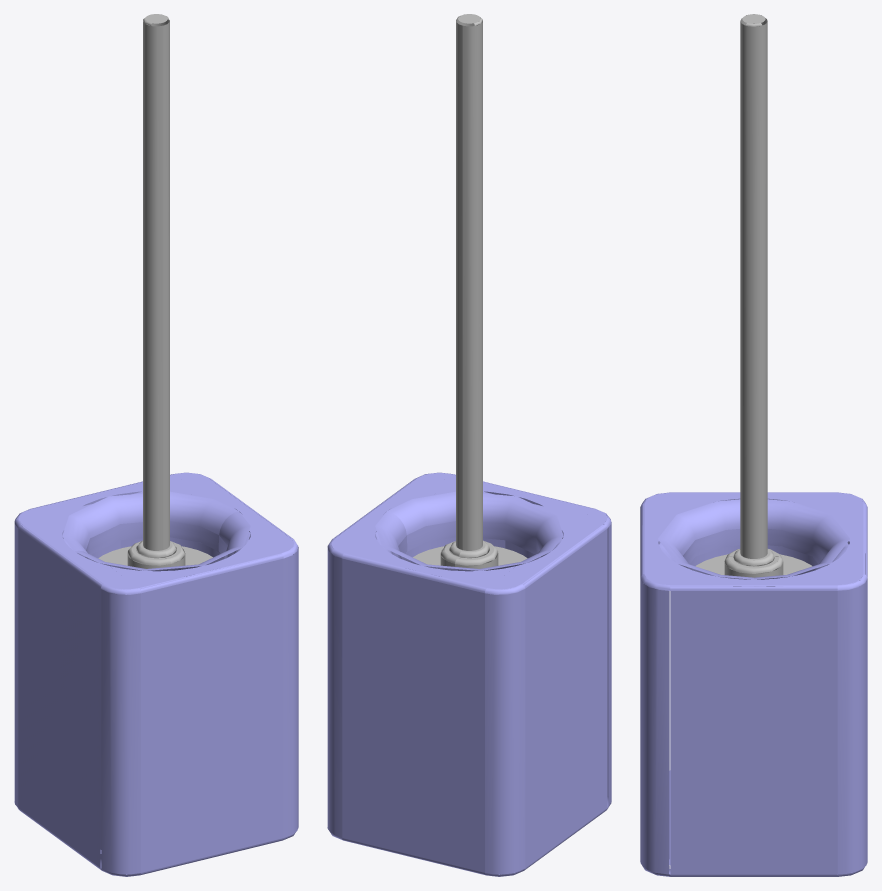
File: Toilet_brush_1.fbx
3 views of the same model, side by side, from view 1: azimuth 30°, elevation 25°; view 2: azimuth 150°, elevation 25°; view 3: azimuth 270°, elevation 25° (orthographic).
Parts seen in each view (by area): view 1: Group46, Group25, Group72, Group28, Group38, Group71, Group68, Group40, Group26, Group66, Group53, Group30 (+1 smaller); view 2: Group46, Group26, Group72, Group27, Group40, Group71, Group69, Group38, Group25, Group66, Group34, Group32; view 3: Group46, Group71, Group27, Group28, Group38, Group40, Group66, Group36, Group68, Group69, Group3, Group53 (+1 smaller).
Boxes of the visible parts, left/top/right/bottom form: Group46: left=18, top=473, right=293, bottom=872; Group25: left=101, top=589, right=140, bottom=874; Group72: left=143, top=21, right=163, bottom=550; Group28: left=283, top=547, right=298, bottom=837; Group38: left=62, top=491, right=238, bottom=560; Group71: left=151, top=19, right=169, bottom=549; Group68: left=85, top=521, right=218, bottom=558; Group40: left=75, top=511, right=250, bottom=571; Group26: left=14, top=524, right=22, bottom=807; Group66: left=98, top=541, right=212, bottom=565; Group53: left=23, top=491, right=269, bottom=849; Group30: left=139, top=553, right=283, bottom=593; Group46: left=332, top=473, right=607, bottom=872; Group26: left=485, top=589, right=525, bottom=874; Group72: left=462, top=17, right=482, bottom=550; Group27: left=327, top=545, right=342, bottom=837; Group40: left=387, top=491, right=563, bottom=560; Group71: left=456, top=19, right=474, bottom=549; Group69: left=407, top=521, right=540, bottom=558; Group38: left=375, top=511, right=550, bottom=571; Group25: left=603, top=522, right=611, bottom=806; Group66: left=413, top=541, right=527, bottom=565; Group34: left=342, top=553, right=486, bottom=593; Group32: left=522, top=524, right=607, bottom=588; Group46: left=644, top=492, right=863, bottom=874; Group71: left=740, top=21, right=767, bottom=558; Group27: left=837, top=578, right=867, bottom=874; Group28: left=640, top=578, right=669, bottom=874; Group38: left=754, top=499, right=849, bottom=579; Group40: left=658, top=499, right=753, bottom=579; Group66: left=695, top=549, right=812, bottom=574; Group36: left=670, top=585, right=837, bottom=590; Group68: left=767, top=529, right=826, bottom=568; Group69: left=681, top=529, right=740, bottom=568; Group3: left=689, top=545, right=818, bottom=566; Group53: left=658, top=502, right=857, bottom=858.
Size of the model in its own units: 1.06 by 4.18 by 1.06.
